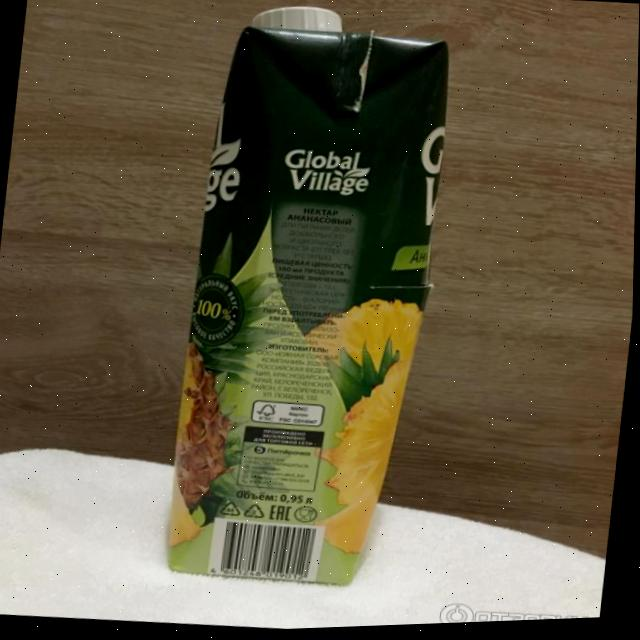Juice Global Village pineapple: (159, 0, 464, 605)
